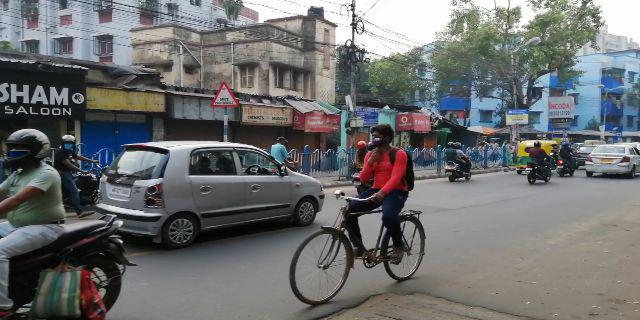Car: (84, 142, 324, 240), (588, 139, 637, 175)
Cycle: (288, 118, 436, 308)
Motorbike: (521, 135, 554, 192), (442, 138, 475, 183)
